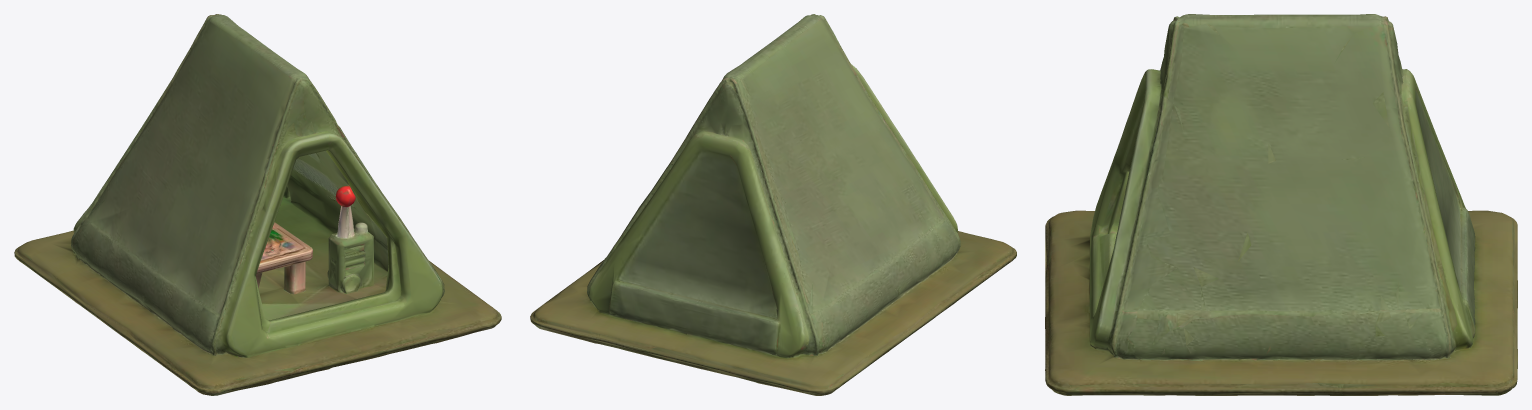
File: tent.glb
3 views of the same model, side by side, from view 1: azimuth 30°, elevation 25°; view 2: azimuth 150°, elevation 25°; view 3: azimuth 270°, elevation 25° (orthographic). The views are drawn at different scales.
Visible parts, largest first — view 1: Mesh_0; view 2: Mesh_0; view 3: Mesh_0.
Boxes of the visible parts, x1,y1,x2,y2 form: Mesh_0: (14, 14, 501, 395); Mesh_0: (530, 14, 1016, 395); Mesh_0: (1045, 14, 1517, 395).
Bounding box in the file's own units: 1.69 × 1.39 × 1.91.
Materials: 1 (1 with a texture image).
